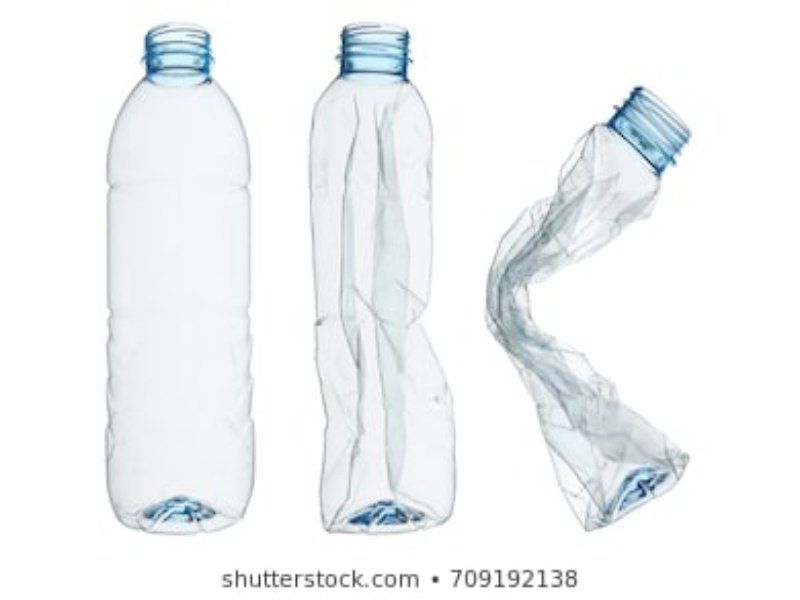plastic-bottle: (484, 81, 706, 535), (307, 19, 462, 533), (108, 25, 262, 538)
